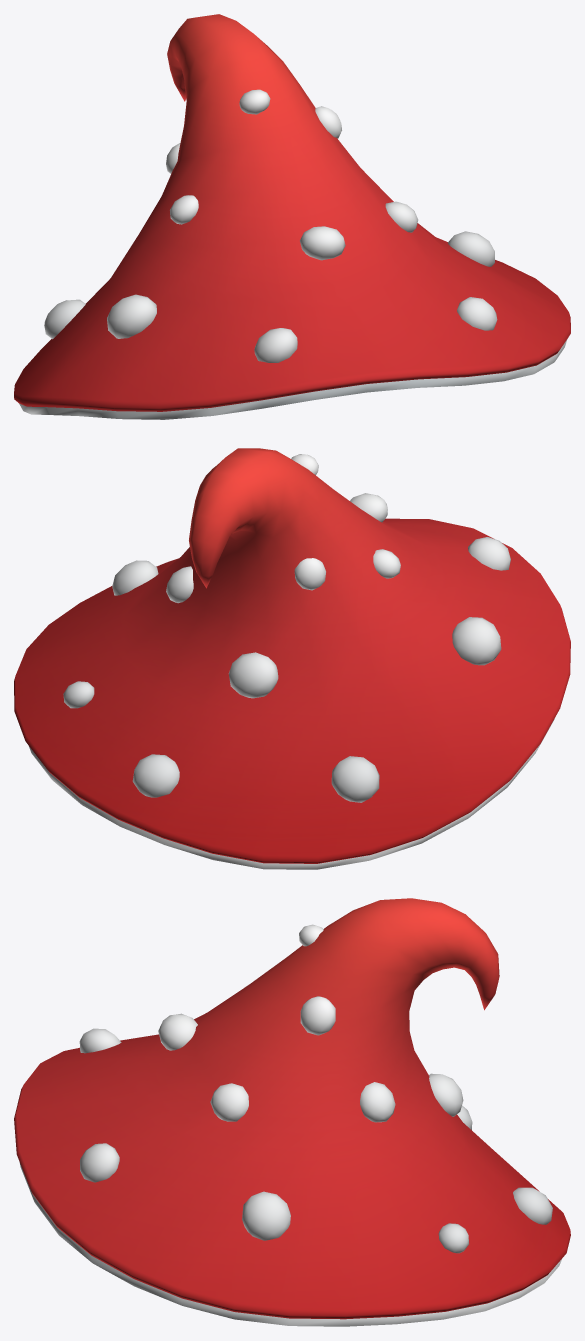
File: Hat_32.glb
3 views of the same model, one above another, from view 1: azimuth 30°, elevation 25°; view 2: azimuth 150°, elevation 25°; view 3: azimuth 270°, elevation 25° (orthographic). The views are drawn at different scales.
Visible parts, largest first — view 1: Hat_32; view 2: Hat_32; view 3: Hat_32.
Boxes of the visible parts, x1,y1,x2,y2 form: Hat_32: (14, 14, 570, 419); Hat_32: (14, 448, 570, 869); Hat_32: (14, 898, 570, 1326).
Bounding box in the file's own units: 0.8812 × 0.5957 × 0.8418.
1 material, 1 textured.
